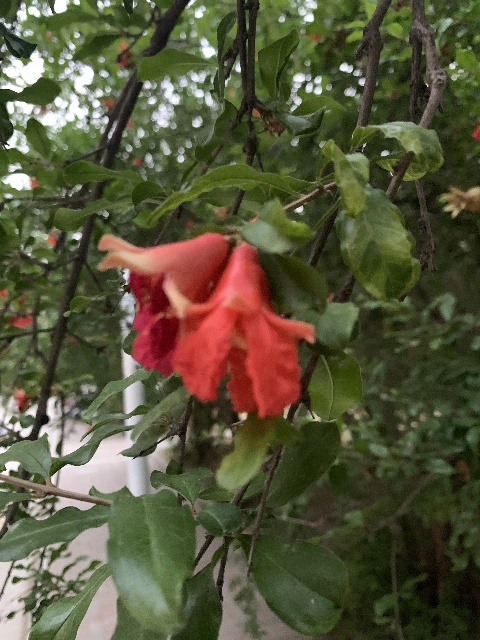flower: (170, 244, 314, 420), (95, 231, 229, 377)
